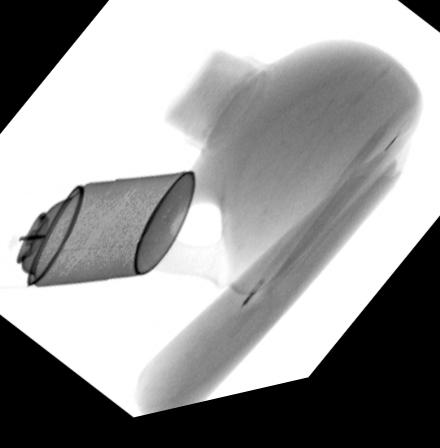Sprayer: (0, 176, 198, 290)
